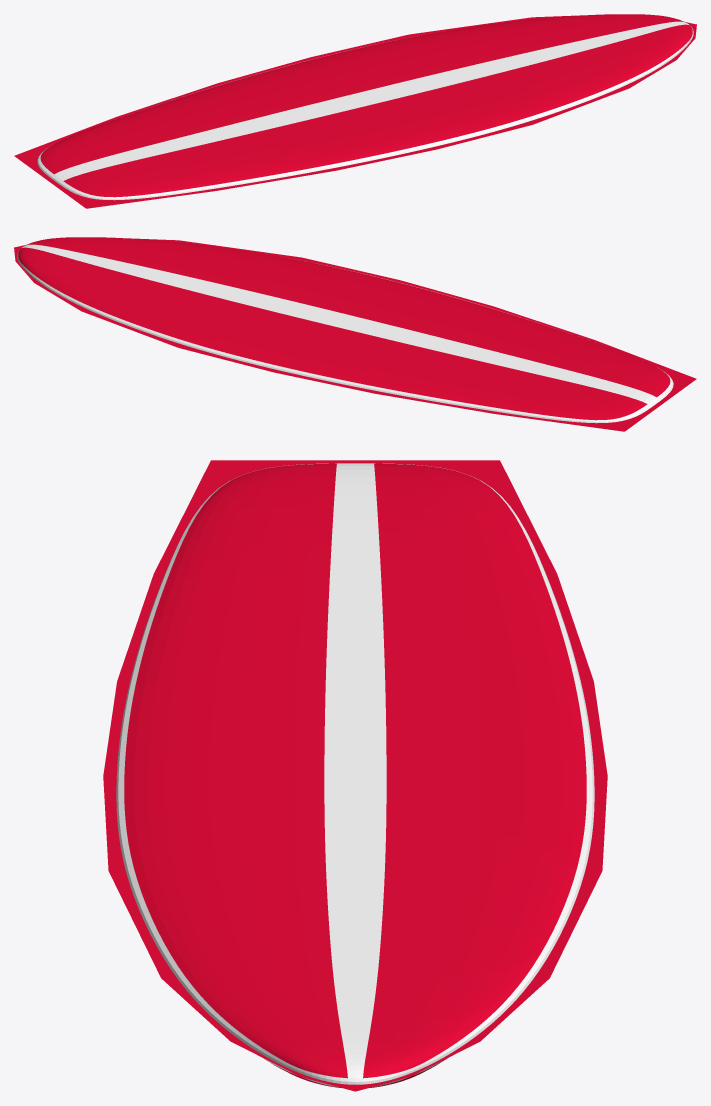
Rendered from surfboard_1_1_texture_slots.fbx.
3 views of the same model, one above another, from view 1: azimuth 30°, elevation 25°; view 2: azimuth 150°, elevation 25°; view 3: azimuth 270°, elevation 25° (orthographic). The views are drawn at different scales.
Parts seen in each view (by area): view 1: Plane, Plane.001; view 2: Plane, Plane.001; view 3: Plane, Plane.001.
Part boxes in pixels (left/top/right/bottom): Plane: left=37, top=14, right=693, bottom=200; Plane.001: left=14, top=15, right=696, bottom=208; Plane: left=17, top=237, right=673, bottom=423; Plane.001: left=14, top=238, right=696, bottom=431; Plane: left=116, top=463, right=594, bottom=1087; Plane.001: left=103, top=460, right=607, bottom=1091.
Bounding box in the file's own units: 400 × 8 × 135.
